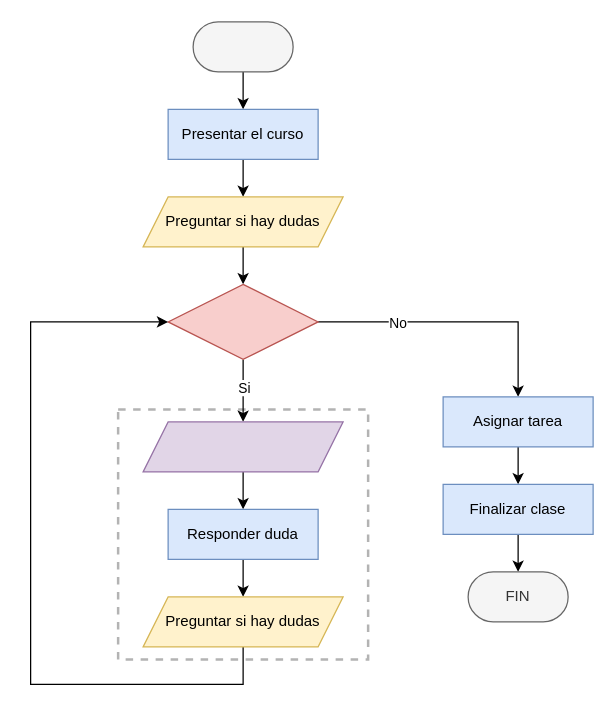
Image size: 615x716. Some labels were removed from this diagram. The shapes that lost their labels are listed below. From the top down, each one's centre as x and y in pixels, then its label:
At pixel 242 46: "INICIO".
At pixel 242 321: "Existen dudas?".
At pixel 242 446: "Escuchar duda".
